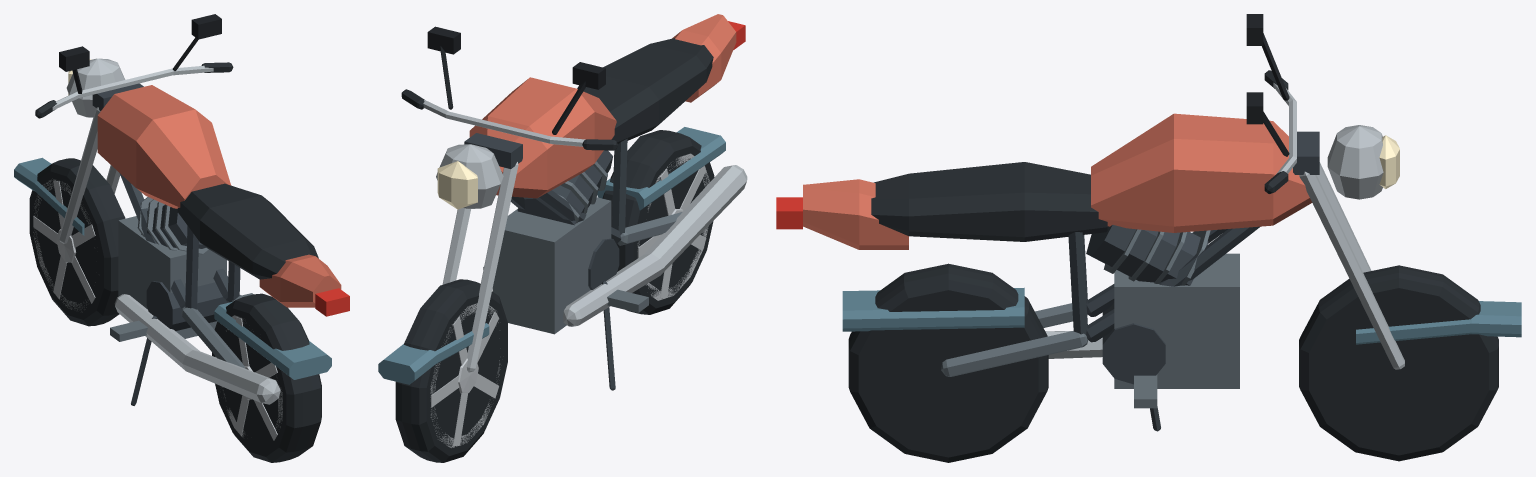
File: SMALL_01.obj
The picture shows the model from 3 angles, left to right: view 1: azimuth 30°, elevation 25°; view 2: azimuth 150°, elevation 25°; view 3: azimuth 270°, elevation 25°; orthographic projection. The views are drawn at different scales.
Parts seen in each view (by area): view 1: fuel_tank, wheel_F, wheel_R, engine, seat, exhaust, tail, frame, fender_R, forks, handlebar, headlight (+6 smaller); view 2: engine, wheel_F, fuel_tank, wheel_R, seat, exhaust, forks, headlight, fender_R, tail, mirrors, fender_F (+5 smaller); view 3: wheel_F, wheel_R, fuel_tank, engine, seat, forks, tail, frame, fender_R, headlight, swingarm, fender_F (+4 smaller).
Boxes of the visible parts, left/top/right/bottom form: fuel_tank: left=97, top=85, right=231, bottom=208; wheel_F: left=29, top=158, right=125, bottom=326; wheel_R: left=212, top=293, right=321, bottom=462; engine: left=118, top=197, right=228, bottom=338; seat: left=177, top=183, right=318, bottom=279; exhaust: left=114, top=294, right=280, bottom=404; tail: left=259, top=254, right=341, bottom=307; frame: left=119, top=173, right=240, bottom=309; fender_R: left=214, top=301, right=331, bottom=379; forks: left=59, top=83, right=143, bottom=243; handlebar: left=35, top=62, right=233, bottom=118; headlight: left=66, top=58, right=125, bottom=117; engine: left=492, top=150, right=619, bottom=334; wheel_F: left=395, top=279, right=507, bottom=462; fuel_tank: left=469, top=77, right=616, bottom=198; wheel_R: left=602, top=130, right=714, bottom=314; seat: left=577, top=38, right=713, bottom=143; exhaust: left=563, top=165, right=747, bottom=326; forks: left=442, top=133, right=522, bottom=372; headlight: left=436, top=144, right=503, bottom=209; fender_R: left=597, top=127, right=725, bottom=210; tail: left=672, top=14, right=736, bottom=102; mirrors: left=427, top=26, right=605, bottom=134; fender_F: left=378, top=323, right=489, bottom=384; wheel_F: left=1299, top=265, right=1498, bottom=461; wheel_R: left=848, top=263, right=1048, bottom=462; fuel_tank: left=1091, top=113, right=1312, bottom=232; engine: left=1086, top=225, right=1239, bottom=388; seat: left=871, top=162, right=1107, bottom=241; forks: left=1293, top=131, right=1404, bottom=369; tail: left=803, top=179, right=908, bottom=249; frame: left=1068, top=226, right=1260, bottom=342; fender_R: left=842, top=287, right=1024, bottom=331; headlight: left=1327, top=125, right=1399, bottom=199; swingarm: left=941, top=303, right=1087, bottom=376; fender_F: left=1356, top=301, right=1521, bottom=344.
Size of the model in its own units: 0.8286 by 1.33 by 2.25.
